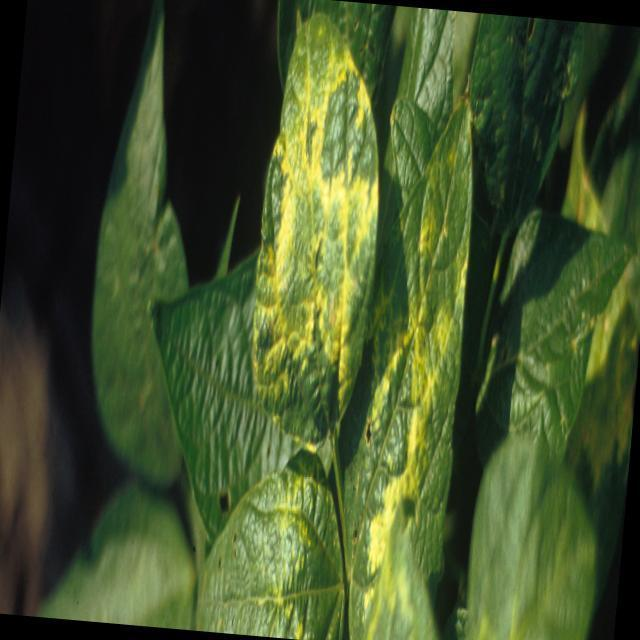Mosaic Virus: (242, 14, 390, 464), (348, 115, 481, 602)
